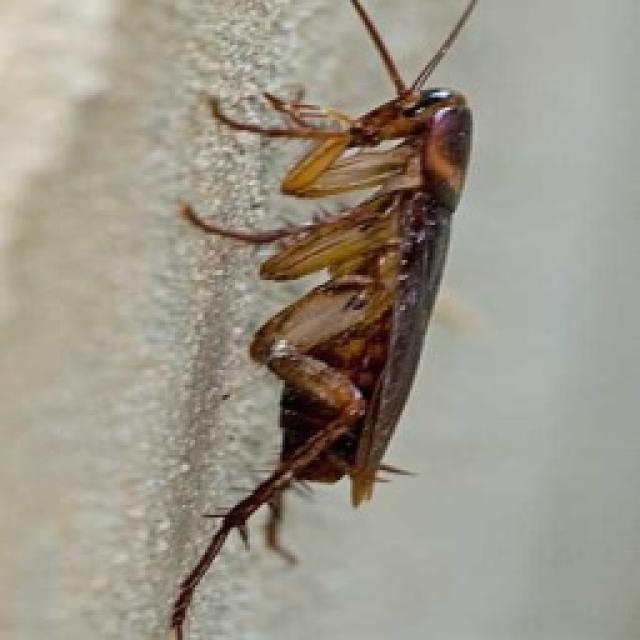cockroach: (164, 3, 484, 637)
